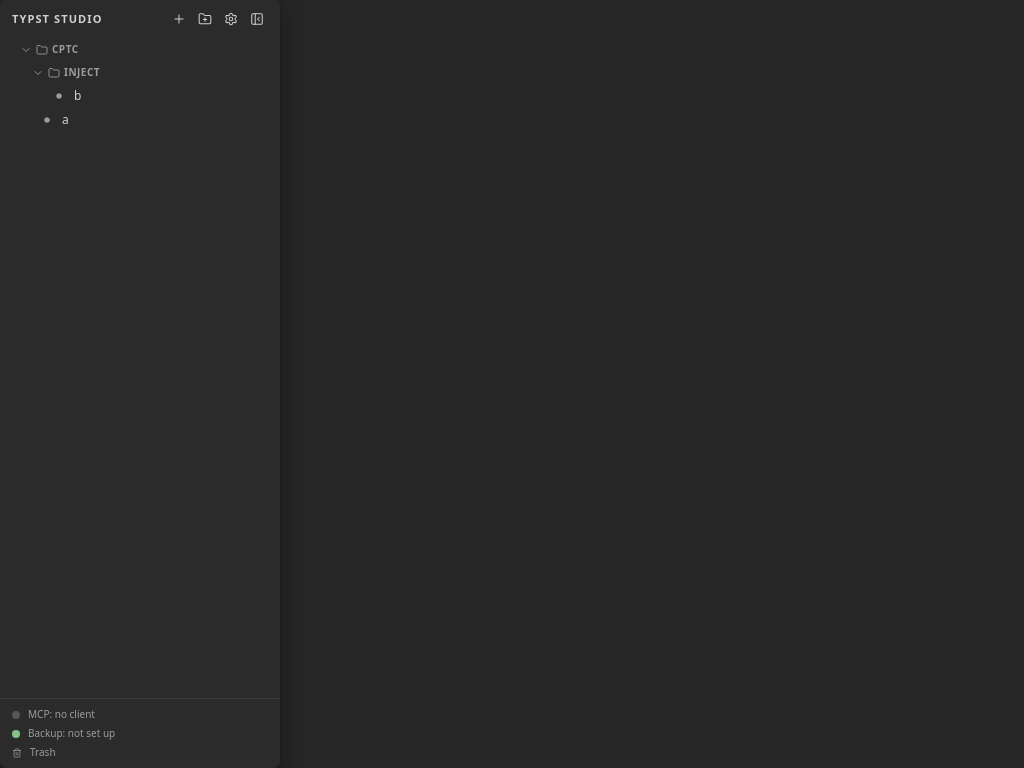
Test: Sidebar › warns how many workspaces a folder delete will loosen
Right-click the button with test id "folder-CPTC" at (26, 50), box [8,38,272,61]
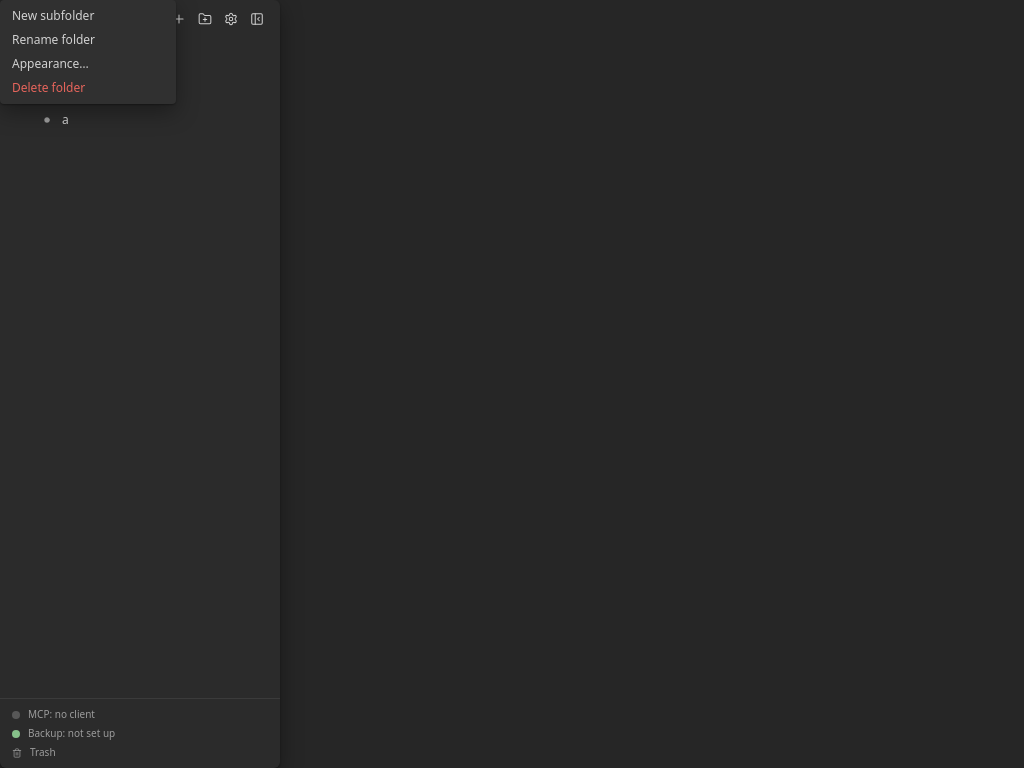
Click the button "Delete folder" at (88, 88), box [4,76,172,100]
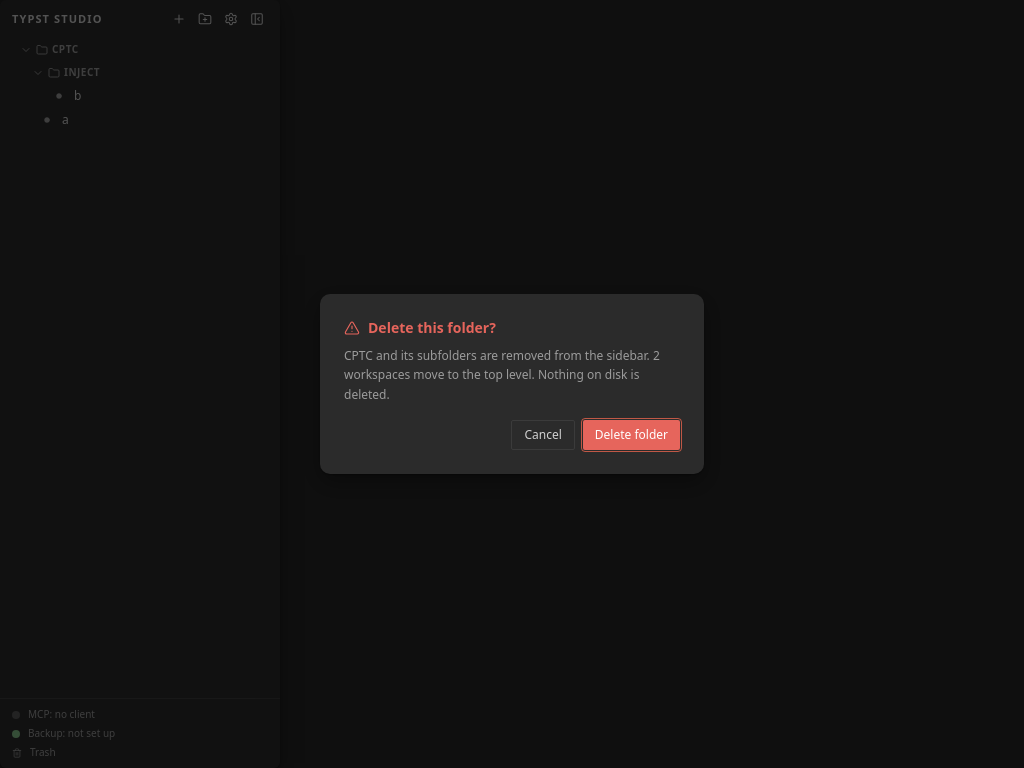
Check: the text "Nothing on disk is deleted" is shown, box [344,347,660,403]
